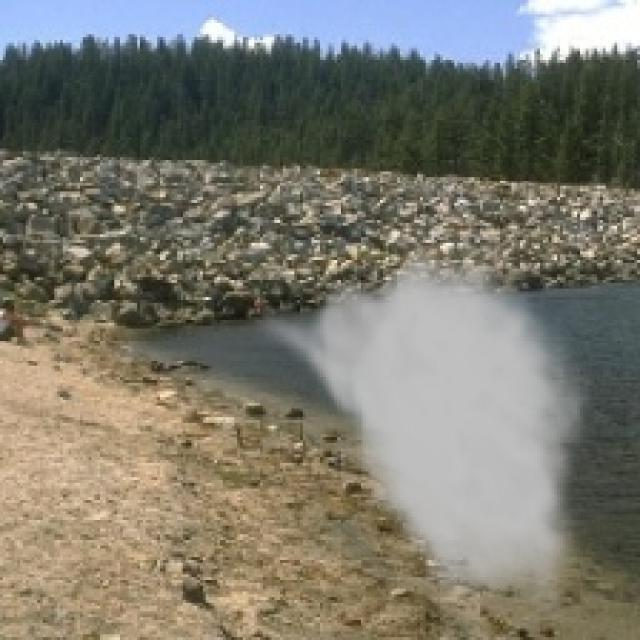Smoke: (248, 234, 592, 623)
